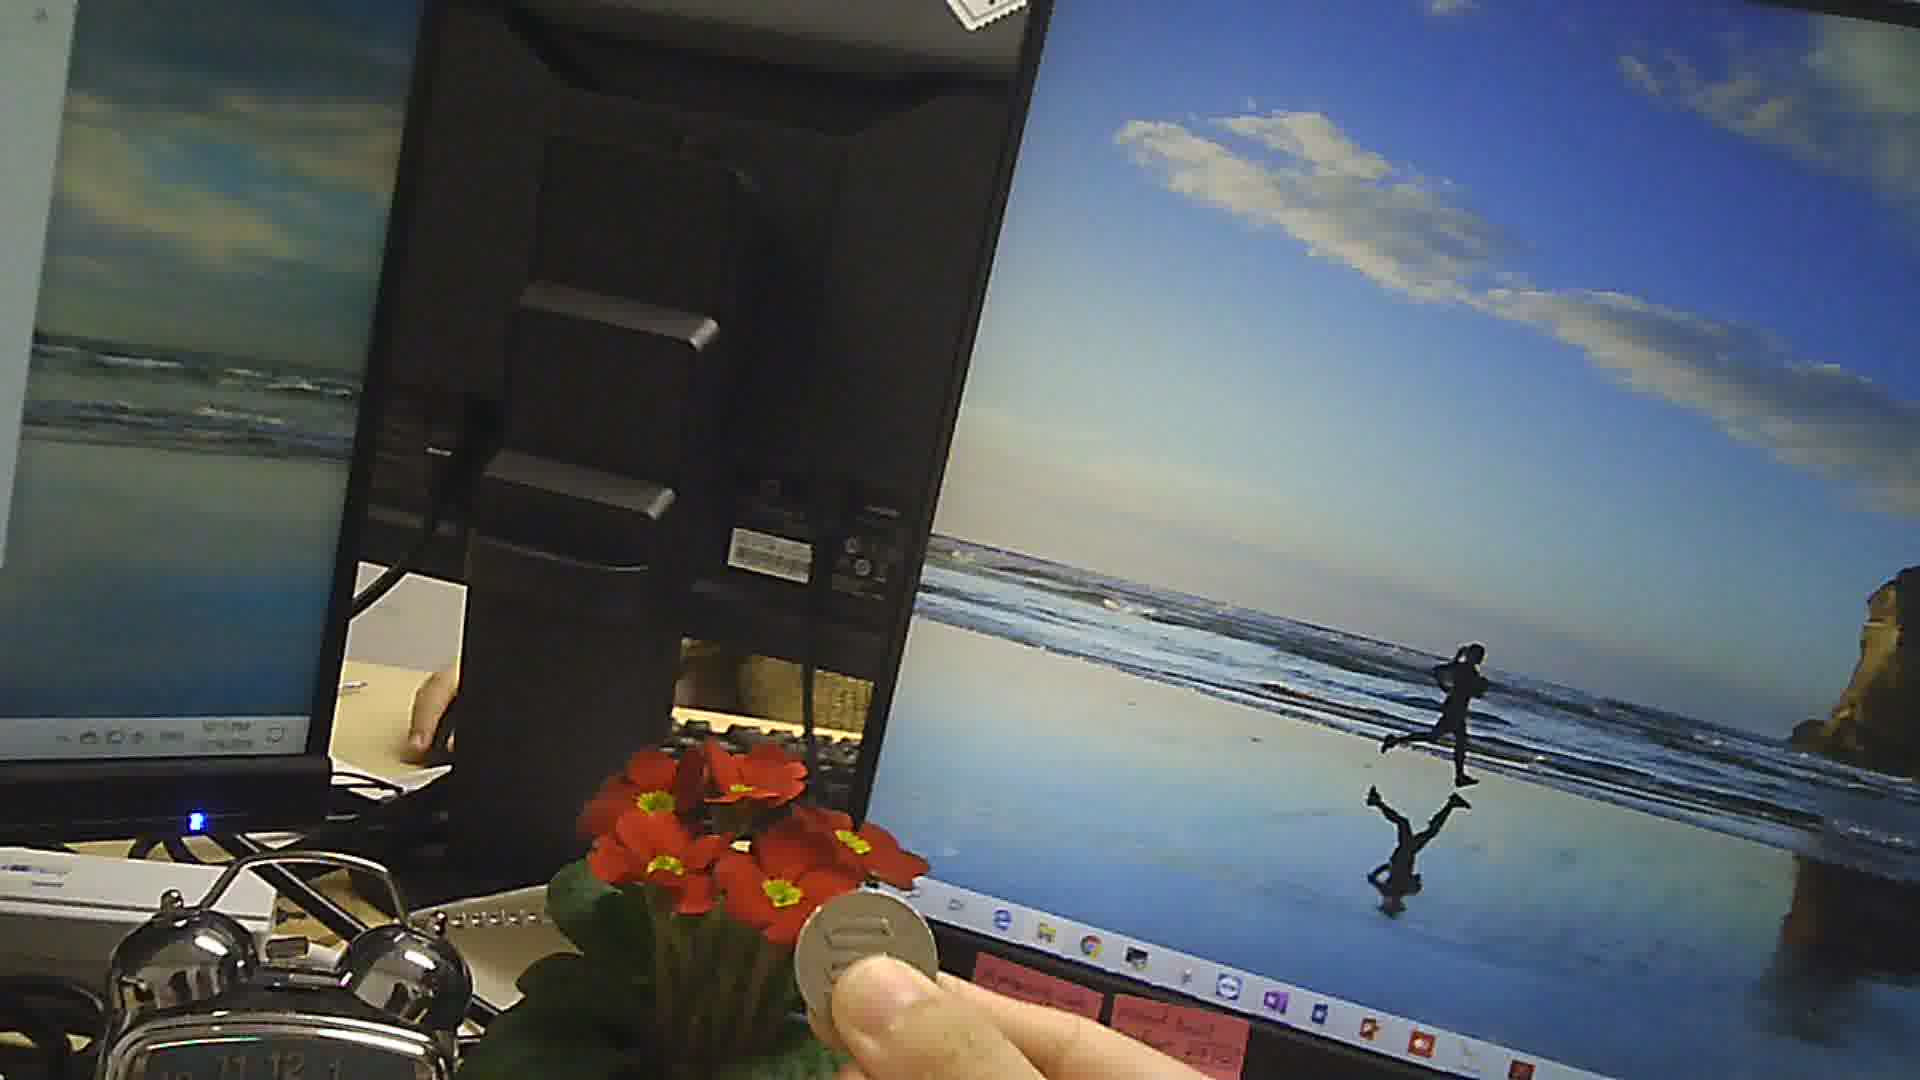100 Yen: (793, 878, 964, 1027)
